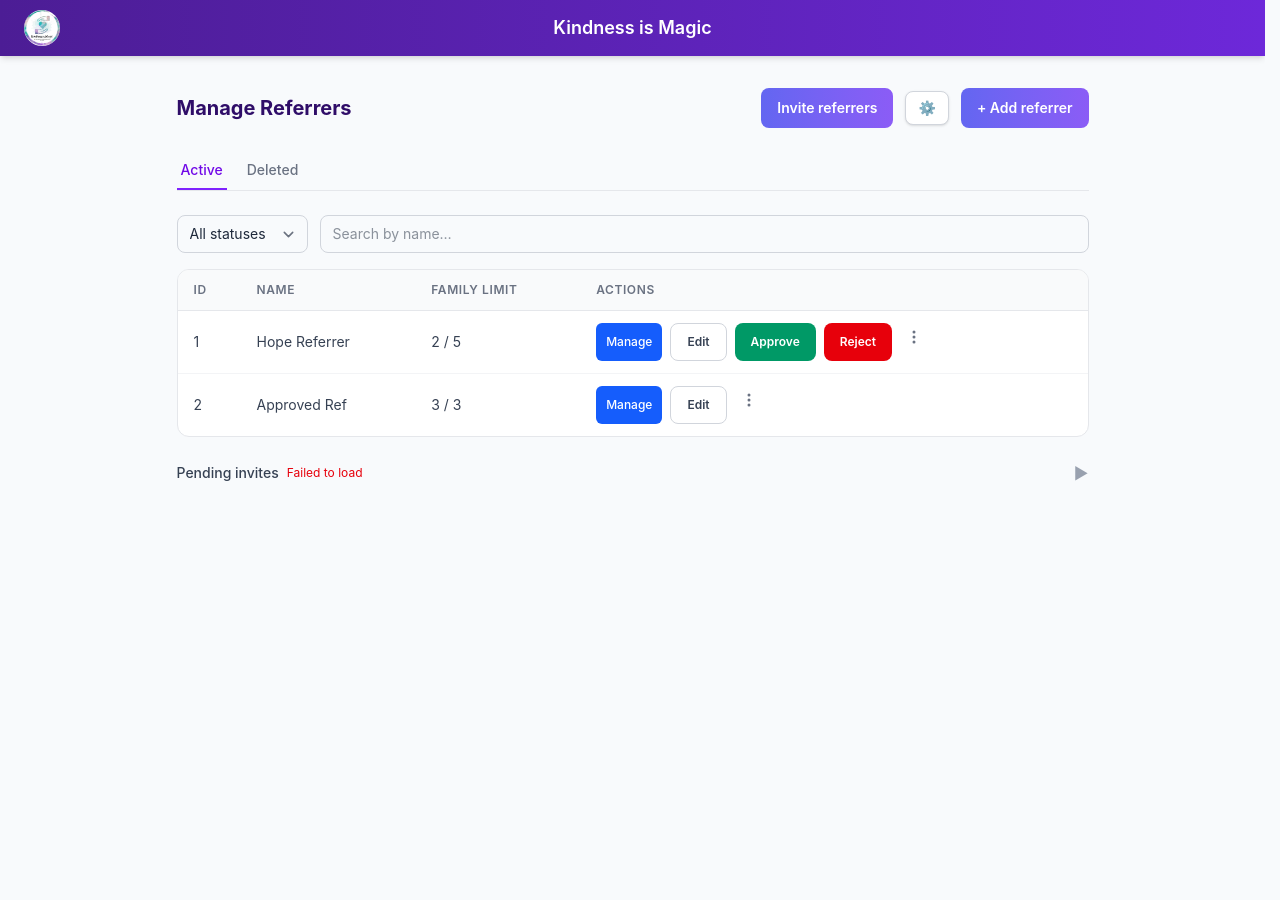
AdminReferrers › deleted tab restores referrers
Expected: the text "Hope Referrer" is shown, [240, 310, 415, 374]
Click the tab "Deleted": (272, 171) [243, 152, 302, 190]
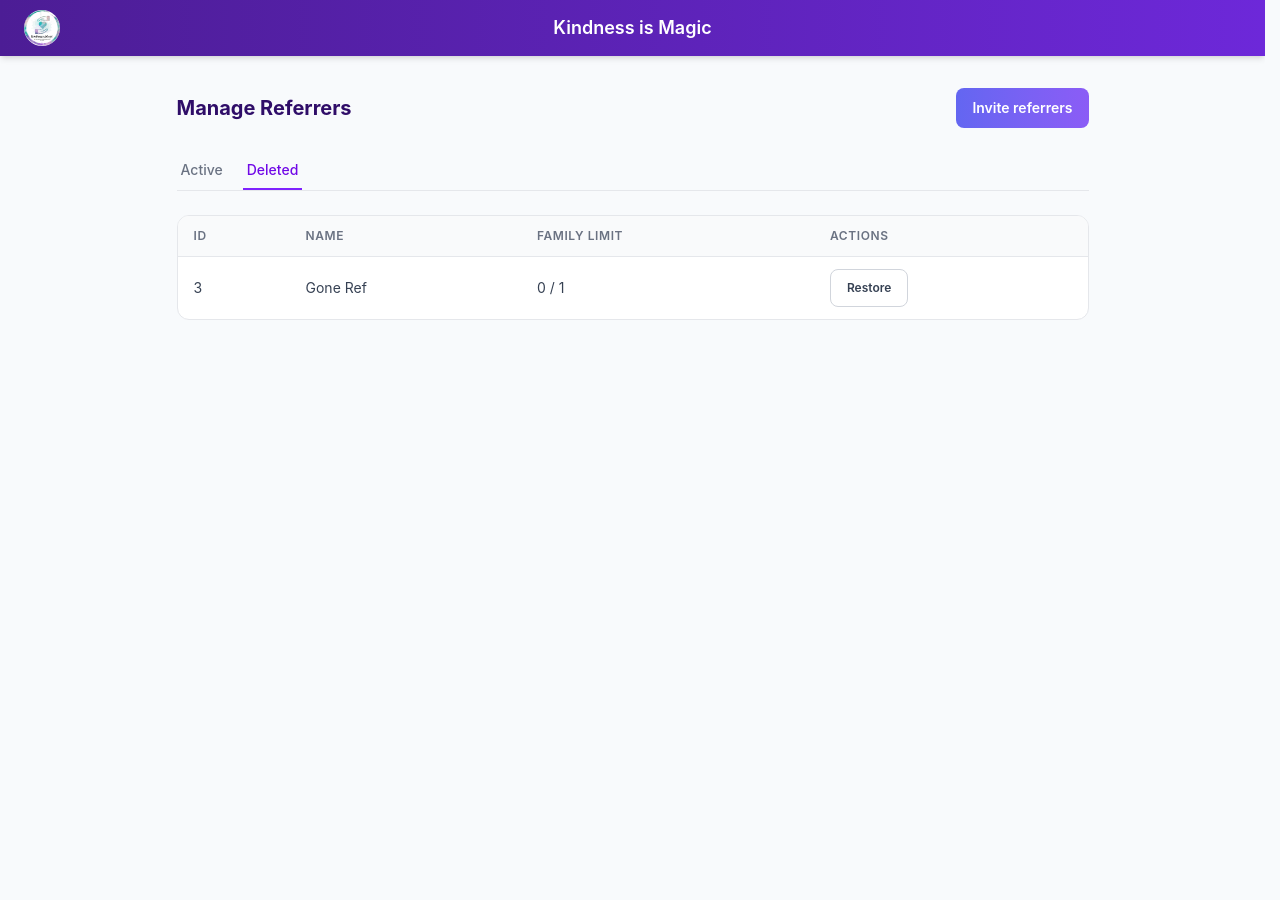
Now the text "Gone Ref" is shown, box [290, 256, 521, 319]
Click the button "Restore": (869, 288) [830, 269, 908, 307]
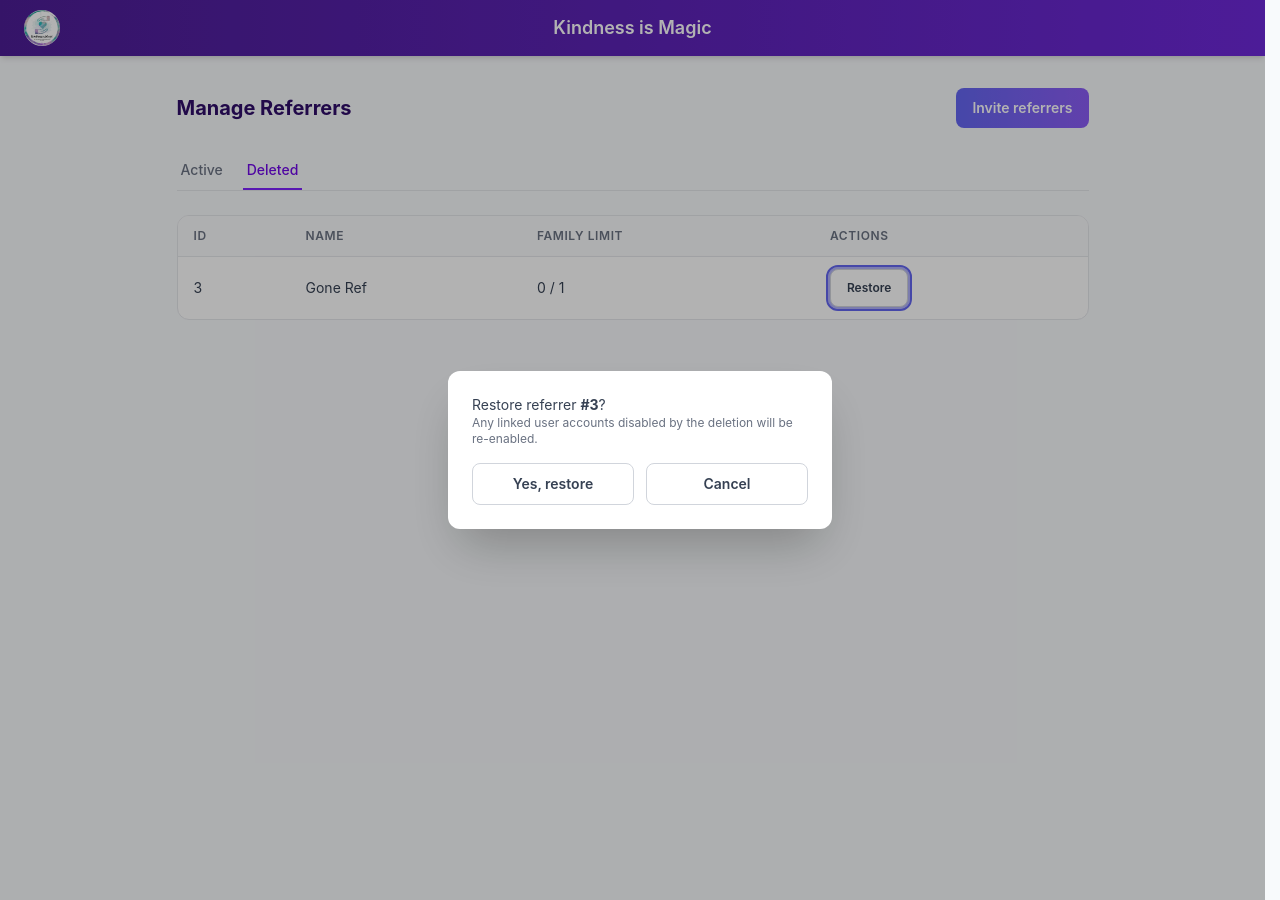
Now the text "Restore referrer" is shown, box [472, 396, 580, 413]
Click the button "Yes, restore": (553, 484) [472, 463, 634, 505]
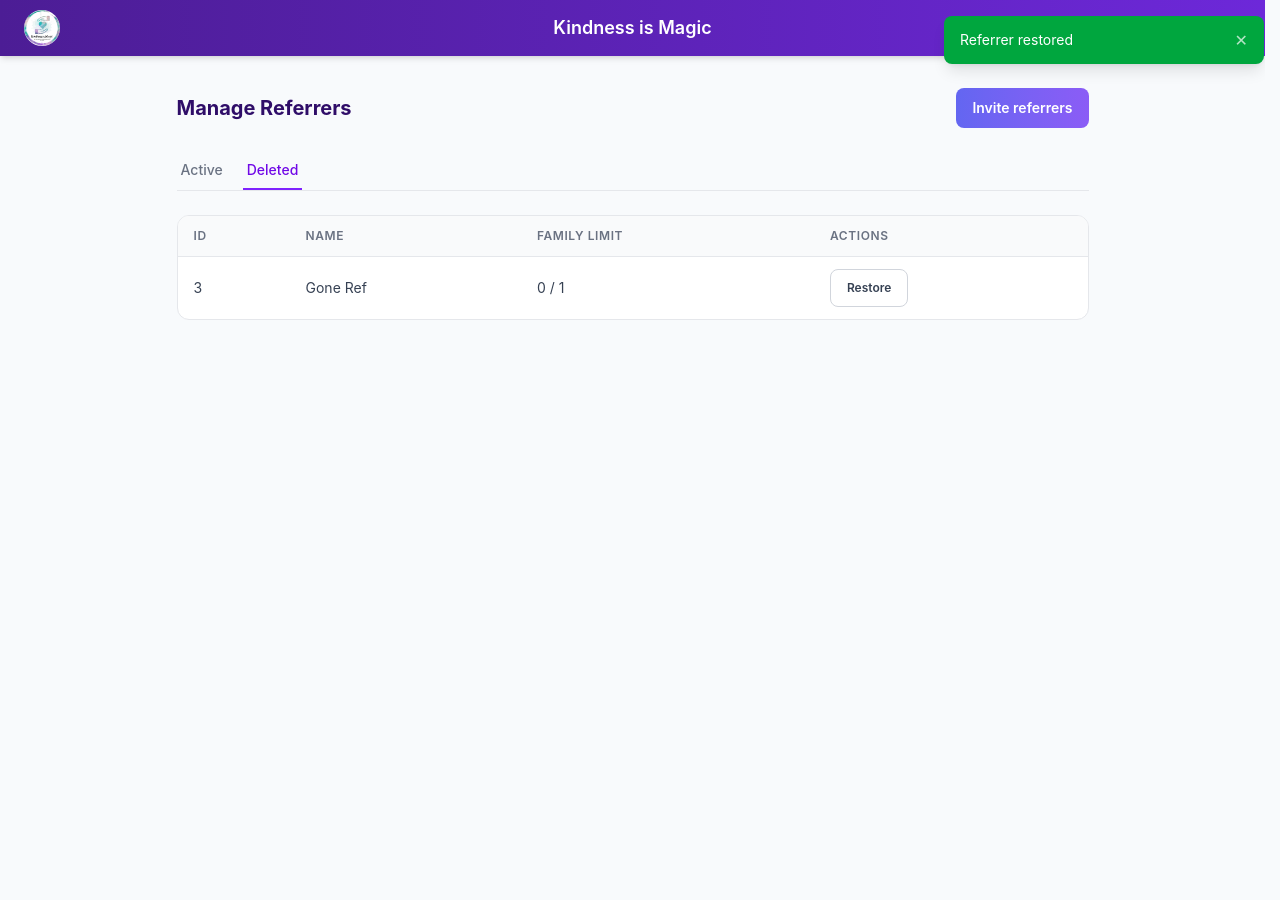
Now the text "Referrer restored" is shown, box [960, 31, 1073, 48]
